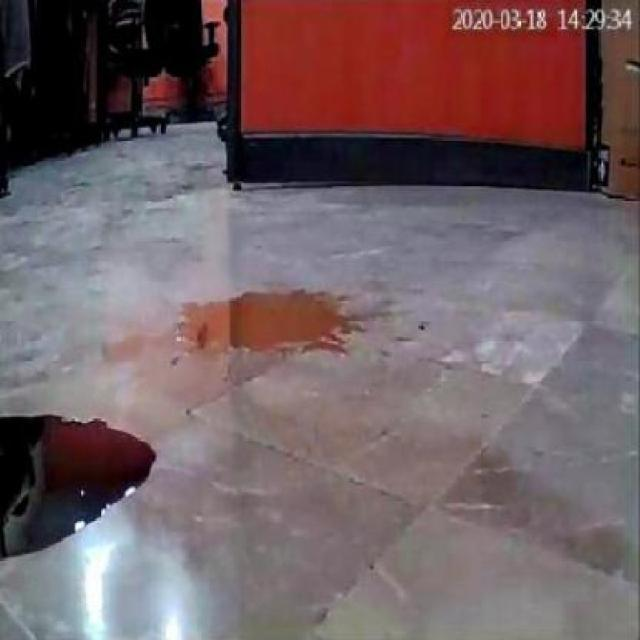spillage: (0, 415, 154, 559), (141, 291, 347, 359)
